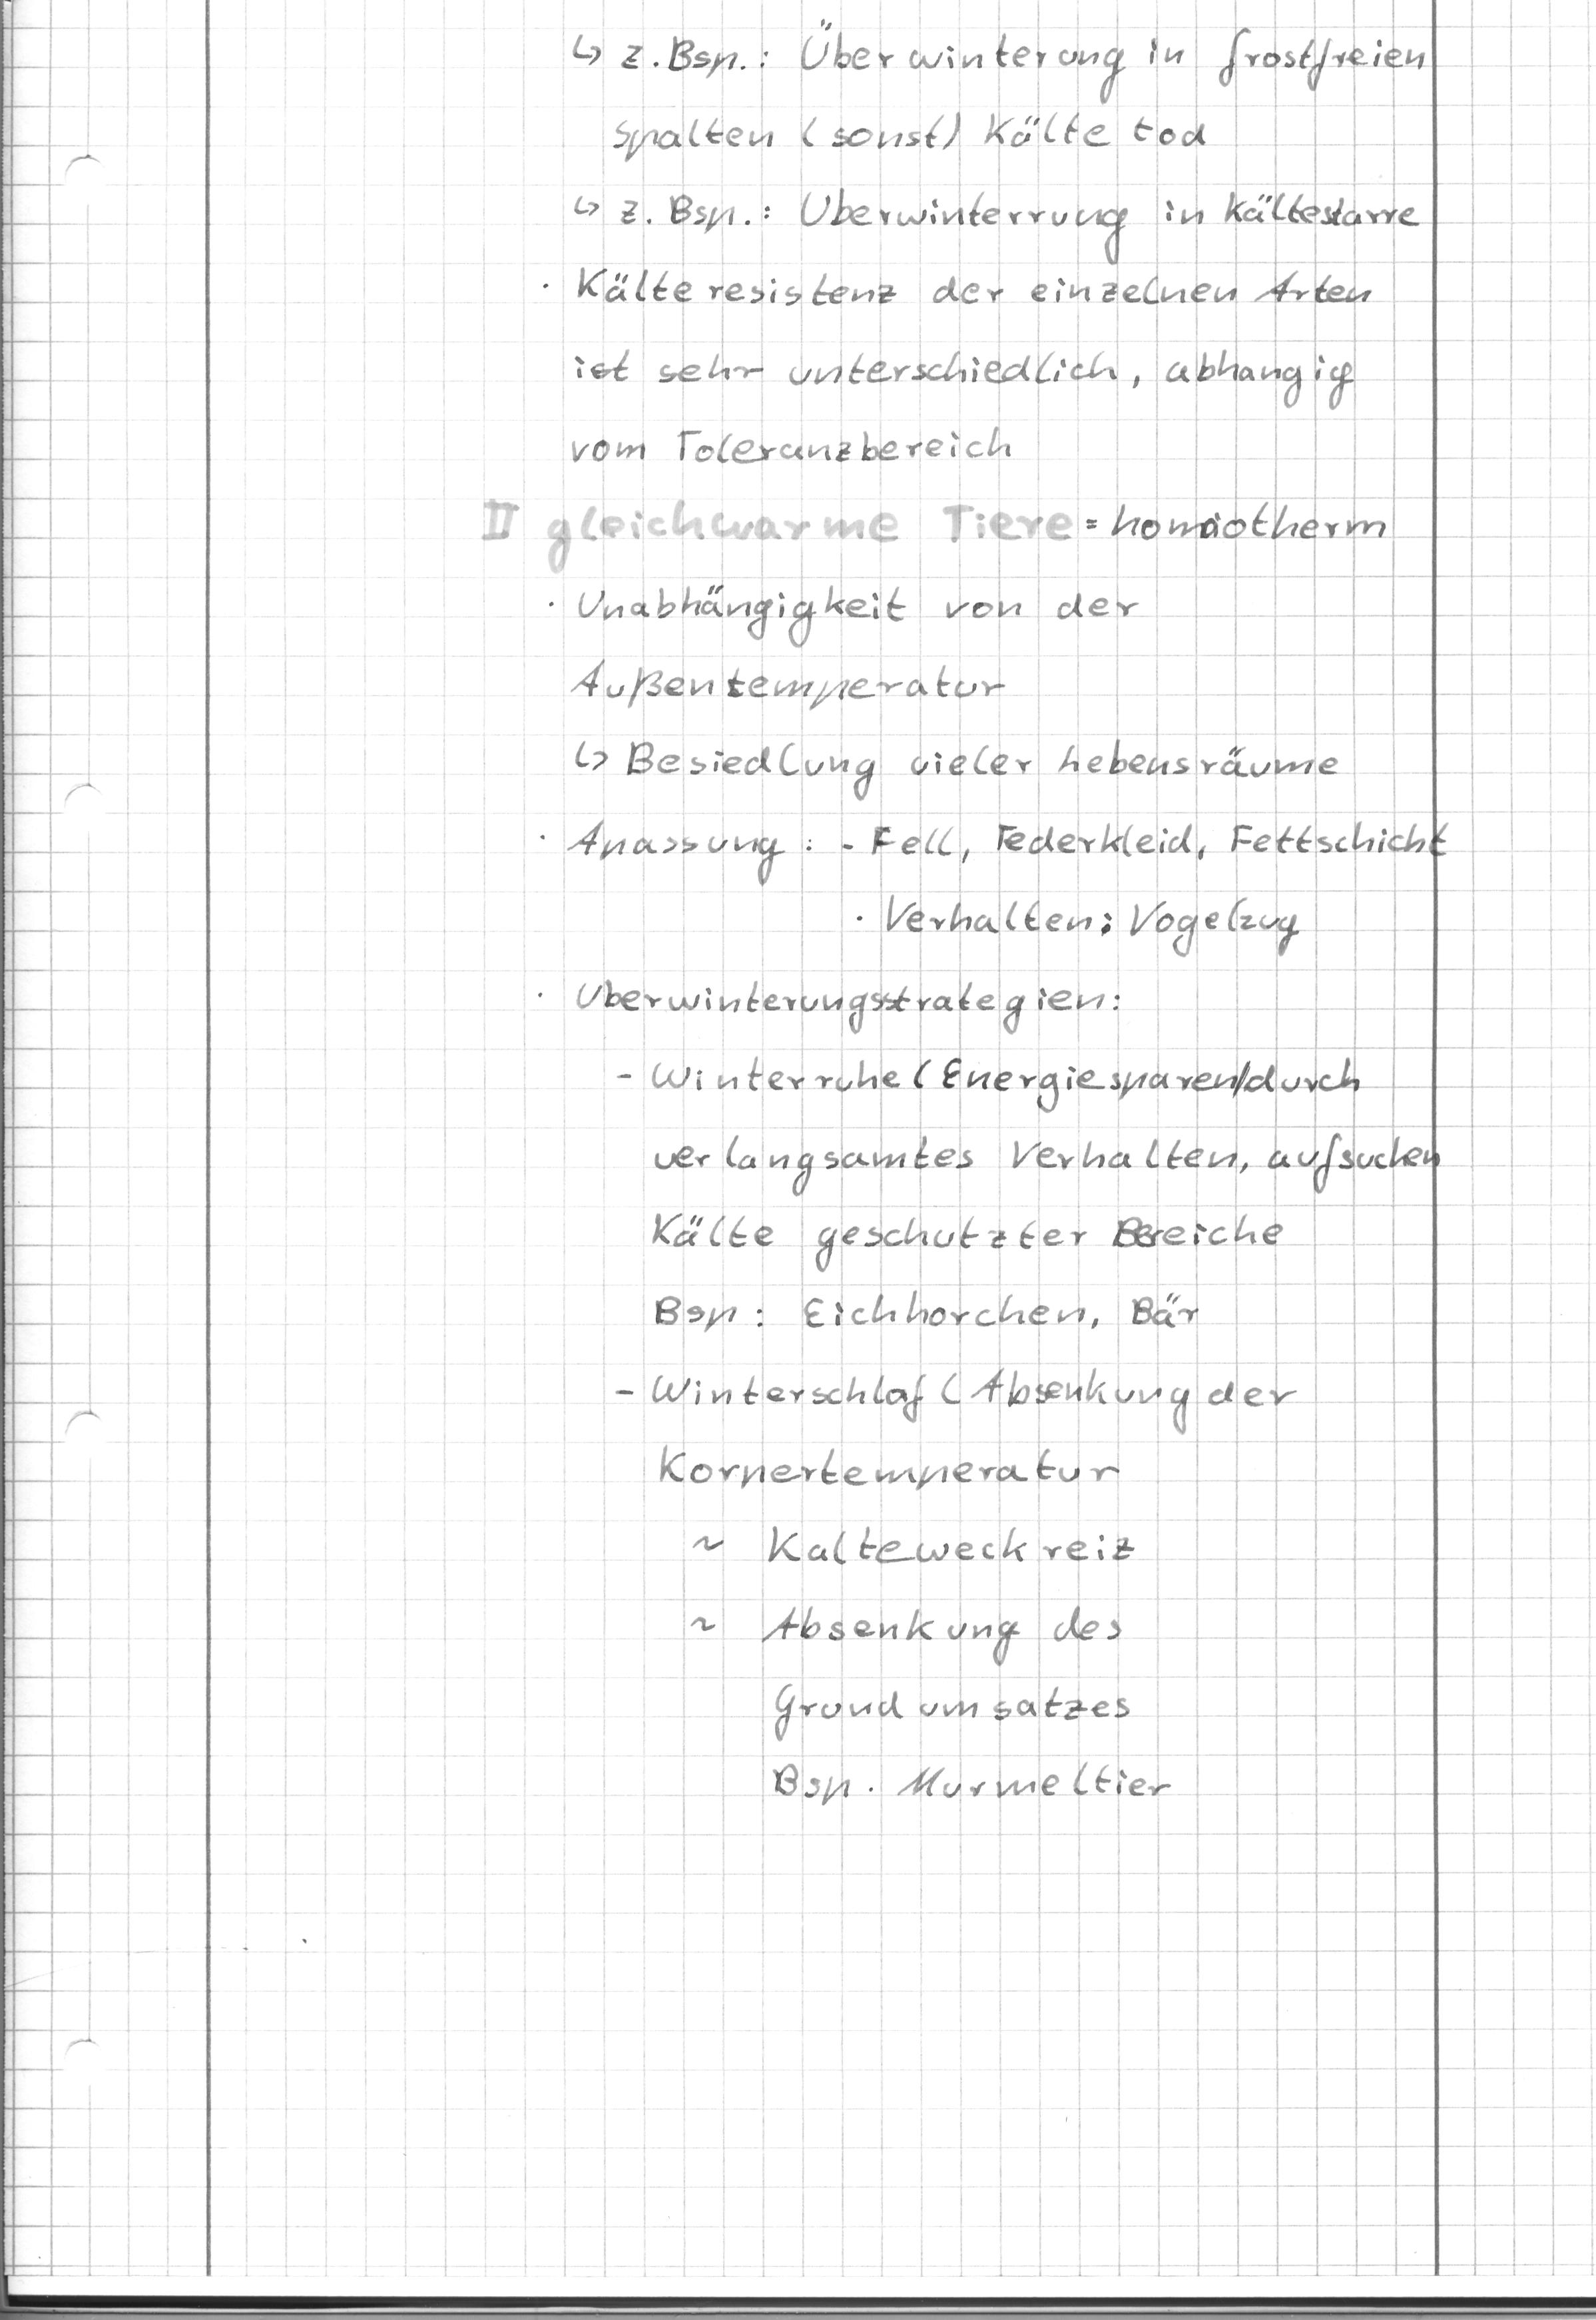word: (519, 17, 1438, 477), (593, 1037, 1446, 1533), (527, 577, 1469, 966), (679, 1515, 1188, 1816), (517, 954, 1147, 1051), (1077, 479, 1399, 563)
